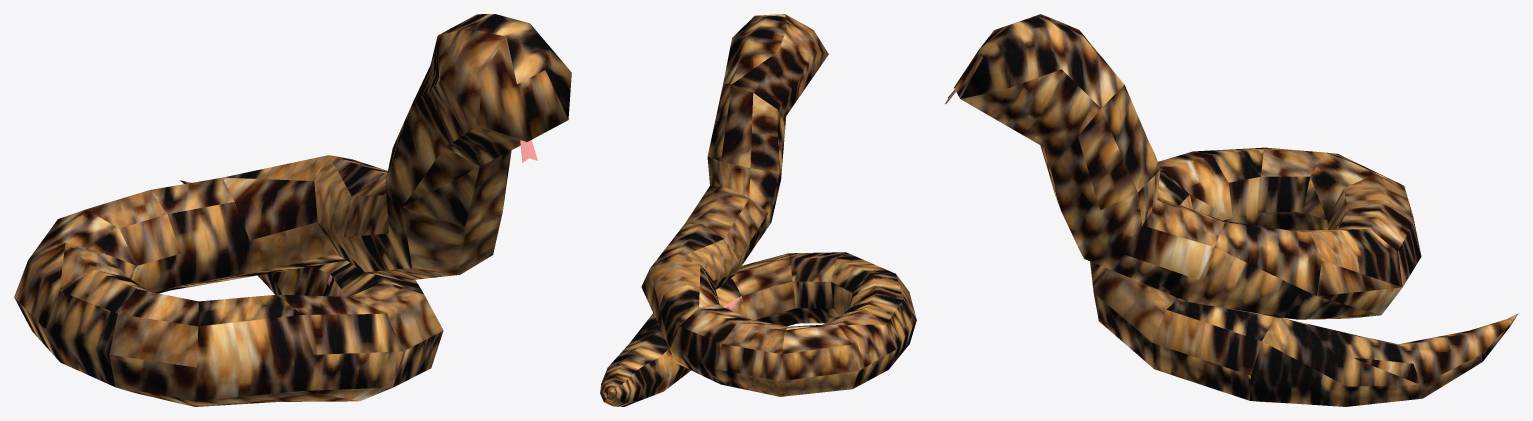
File: Snake.fbx
3 renders of one model, left to right at view 1: azimuth 30°, elevation 25°; view 2: azimuth 150°, elevation 25°; view 3: azimuth 270°, elevation 25°, orthographic. The views are drawn at different scales.
Parts seen in each view (by area): view 1: Snake; view 2: Snake; view 3: Snake.
Part boxes in pixels (x1,y1,x2,y2): Snake: (14, 14, 571, 406); Snake: (600, 14, 916, 406); Snake: (945, 14, 1518, 406).
Size of the model in its own units: 418 by 470 by 640.
